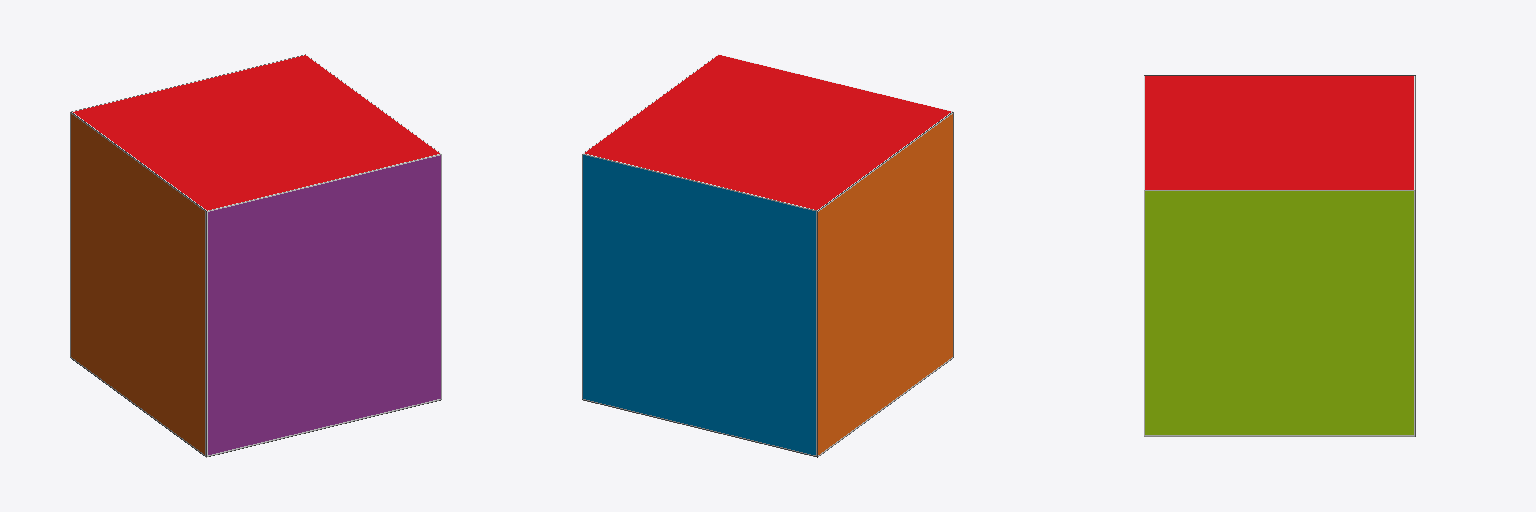
3 views of the same model, side by side, from view 1: azimuth 30°, elevation 25°; view 2: azimuth 150°, elevation 25°; view 3: azimuth 270°, elevation 25° (orthographic).
Visible parts, largest first — view 1: Cube; view 2: Cube; view 3: Cube.
Boxes of the visible parts, <box> form: Cube: <box>70,54,441,457</box>; Cube: <box>582,54,953,457</box>; Cube: <box>1144,75,1415,436</box>.
Size of the model in its own units: 1 by 1 by 1.
Materials: 1 (1 with a texture image).